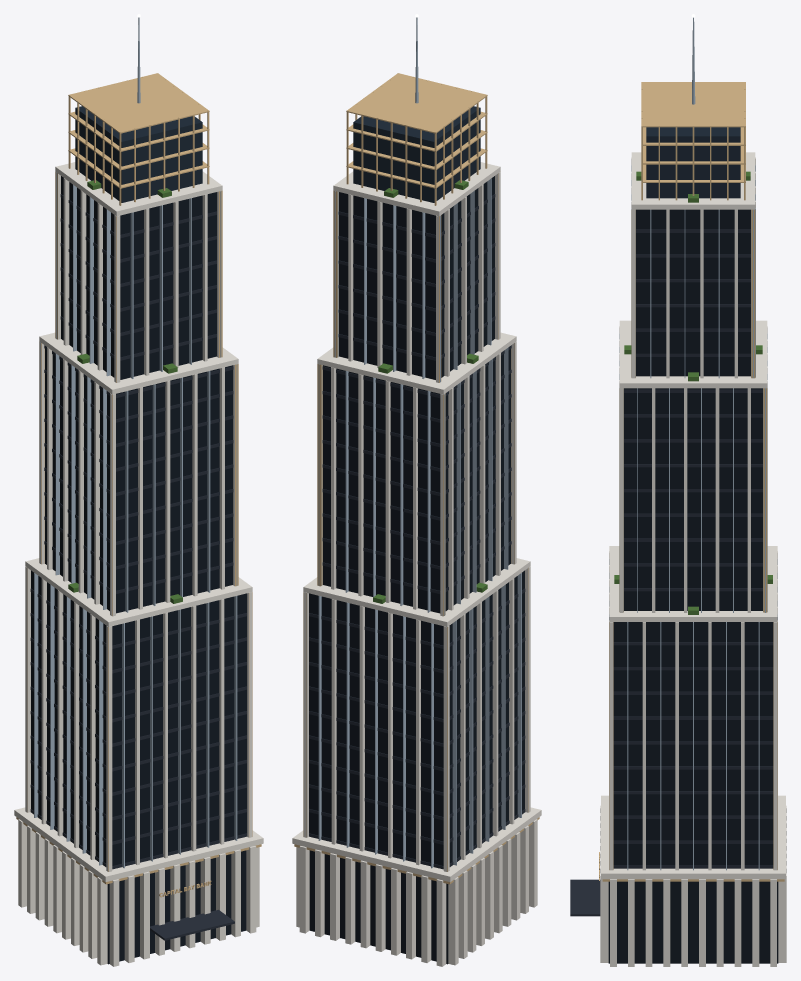
Rendered from bank_hq.glb.
3 views of the same model, side by side, from view 1: azimuth 30°, elevation 25°; view 2: azimuth 150°, elevation 25°; view 3: azimuth 270°, elevation 25° (orthographic).
Parts seen in each view (by area): view 1: CapitalBayBankHQ; view 2: CapitalBayBankHQ; view 3: CapitalBayBankHQ.
Boxes of the visible parts, box(x1,y1,x2,y2) form: CapitalBayBankHQ: box(14, 14, 263, 966); CapitalBayBankHQ: box(292, 14, 541, 966); CapitalBayBankHQ: box(570, 14, 786, 966).
Bounding box in the file's own units: 27.2 × 147 × 31.6.
